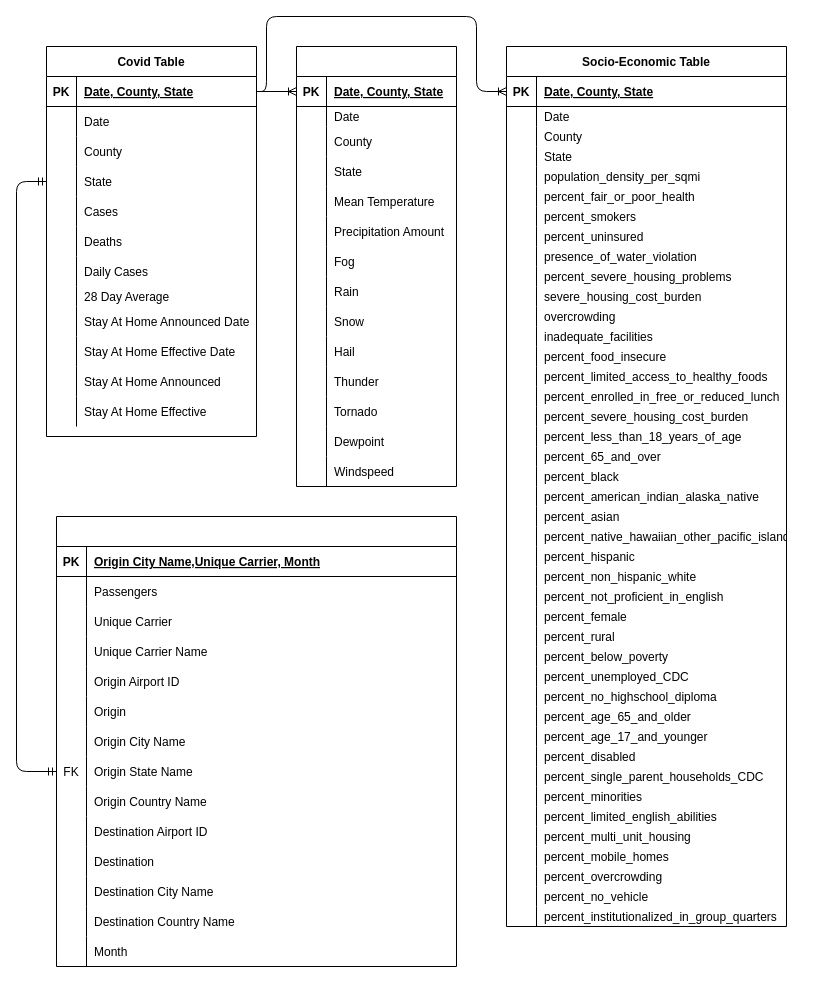
This 817x983 diagram has some shape labels left out. The shapes that lost their labels are listed below. From the top down, each one's box as (x1, y1, x2, y2) in pixels, then its label:
(296, 46, 456, 486): Weather Table
(56, 516, 456, 966): Domestic Airplane Data
